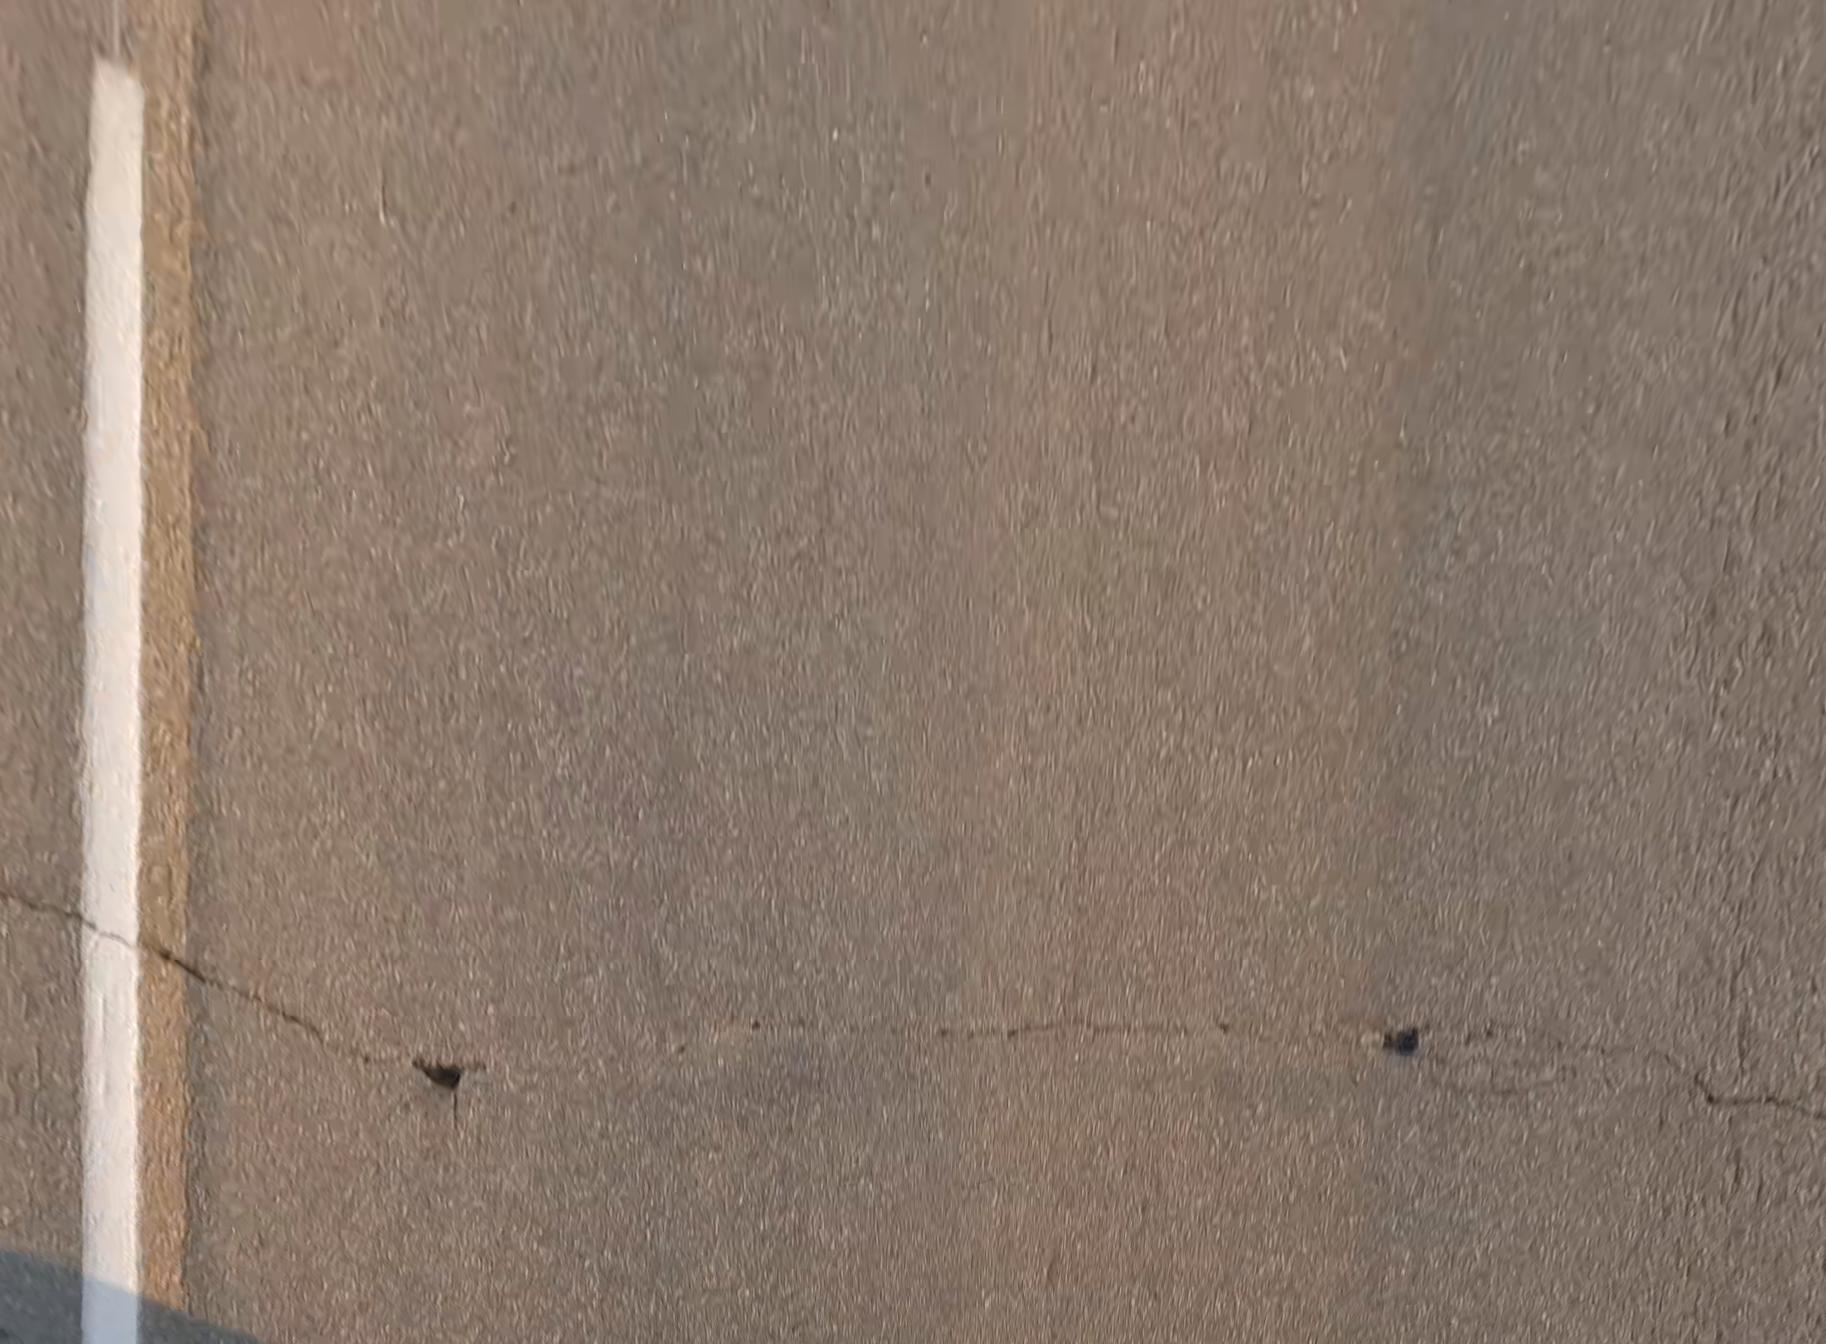pothole: (411, 1053, 466, 1089), (1387, 1029, 1421, 1058)
